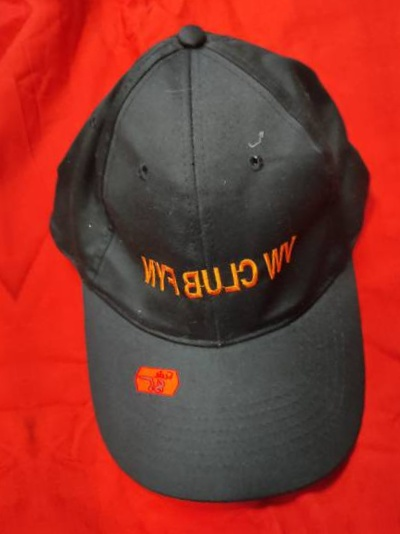Hat: (16, 0, 400, 533), (384, 0, 400, 490), (0, 37, 10, 534)
